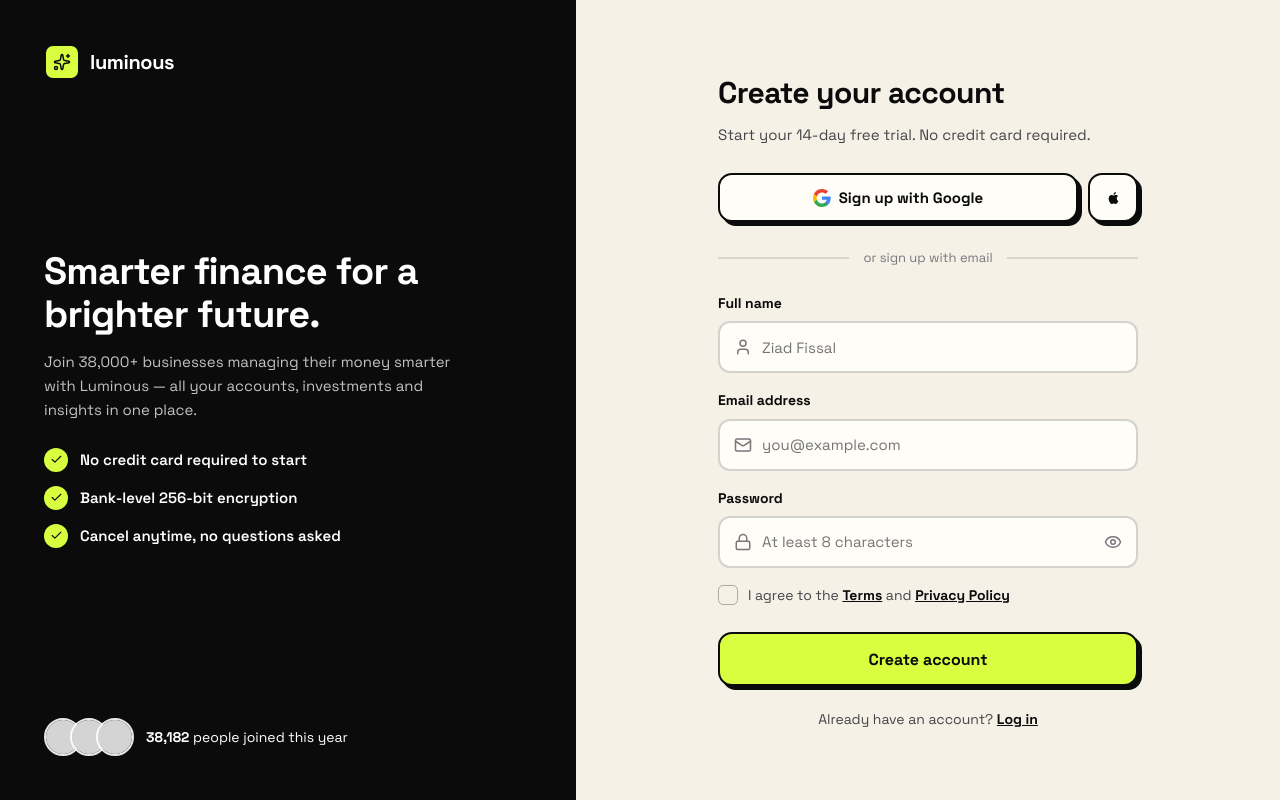
Signup › shows a live password strength label as the user types
The image size is (1280, 800).
Type "Abcdefg1!" into the password field labelled "Password".
click(928, 542); type("Abcdefg1!")  # box [762,532,1094,552]
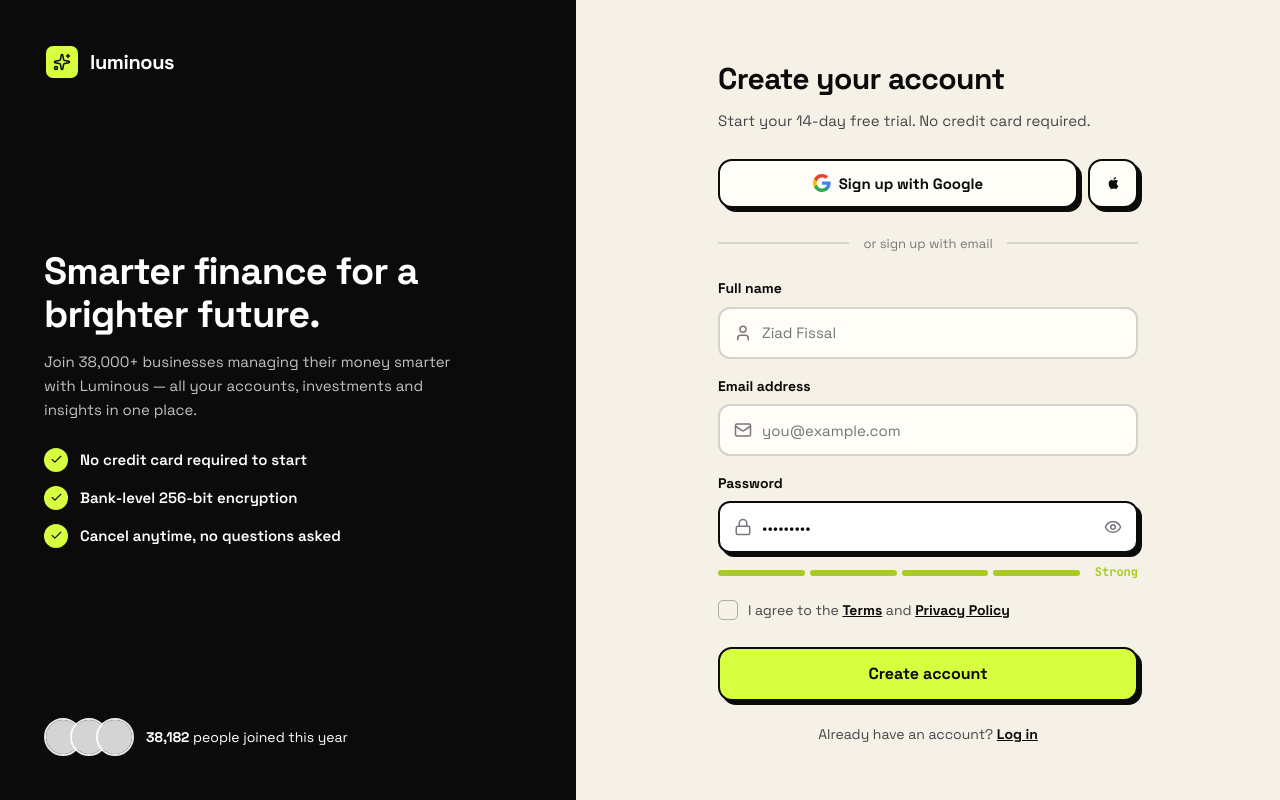
expect the text "Strong" is shown: met, box [1090,563,1138,583]
